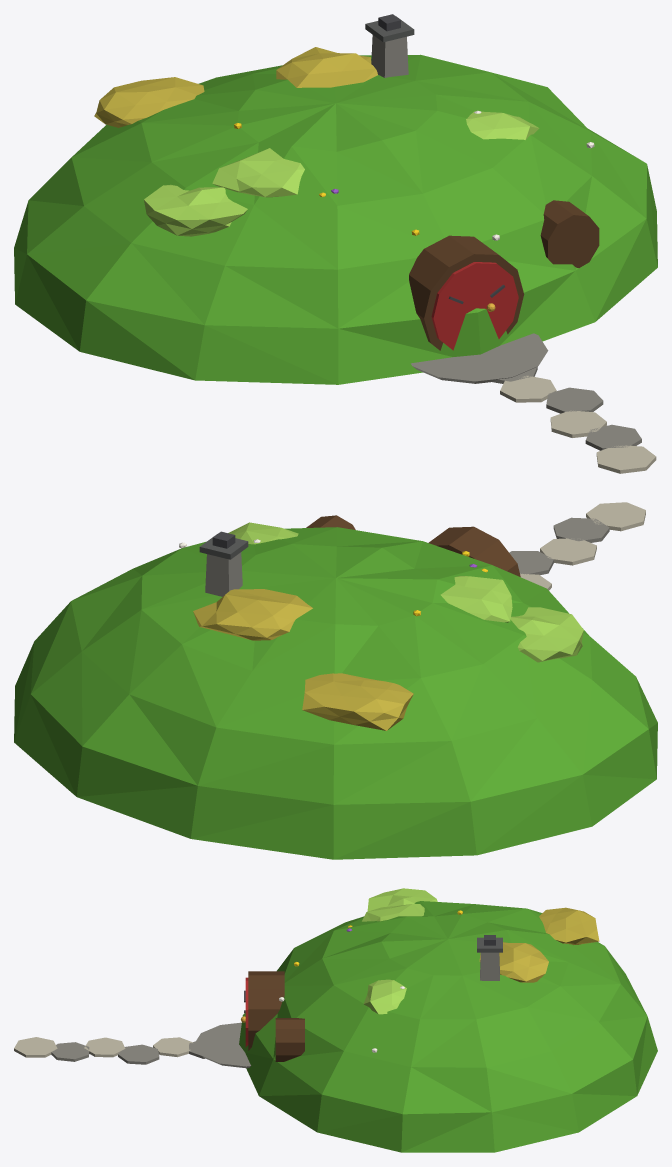
Rendered from hobbit_hole_2.glb.
The picture shows the model from 3 angles, top to bottom: view 1: azimuth 30°, elevation 25°; view 2: azimuth 150°, elevation 25°; view 3: azimuth 270°, elevation 25°; orthographic projection. The views are drawn at different scales.
Parts seen in each view (by area): view 1: hobbit_hole_2; view 2: hobbit_hole_2; view 3: hobbit_hole_2.
Part boxes in pixels (x1,y1,x2,y2): hobbit_hole_2: [14, 14, 657, 473]; hobbit_hole_2: [14, 502, 657, 859]; hobbit_hole_2: [14, 888, 657, 1152].
Size of what is drawn, in the model's own units: 13.26 by 4.33 by 17.73.
